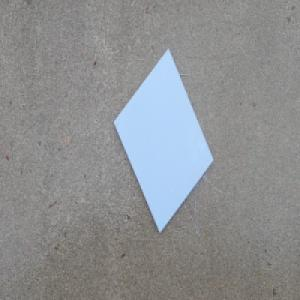PaintChip: (113, 45, 214, 233)
